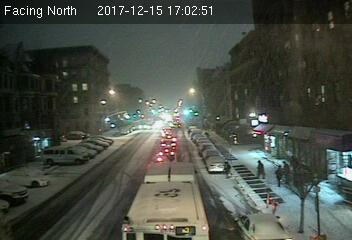bus: (121, 161, 216, 239)
car: (233, 208, 291, 240), (207, 156, 228, 172), (157, 147, 175, 158), (160, 138, 177, 148)
pedestrian: (256, 158, 267, 180), (276, 162, 284, 188), (223, 160, 231, 177)
